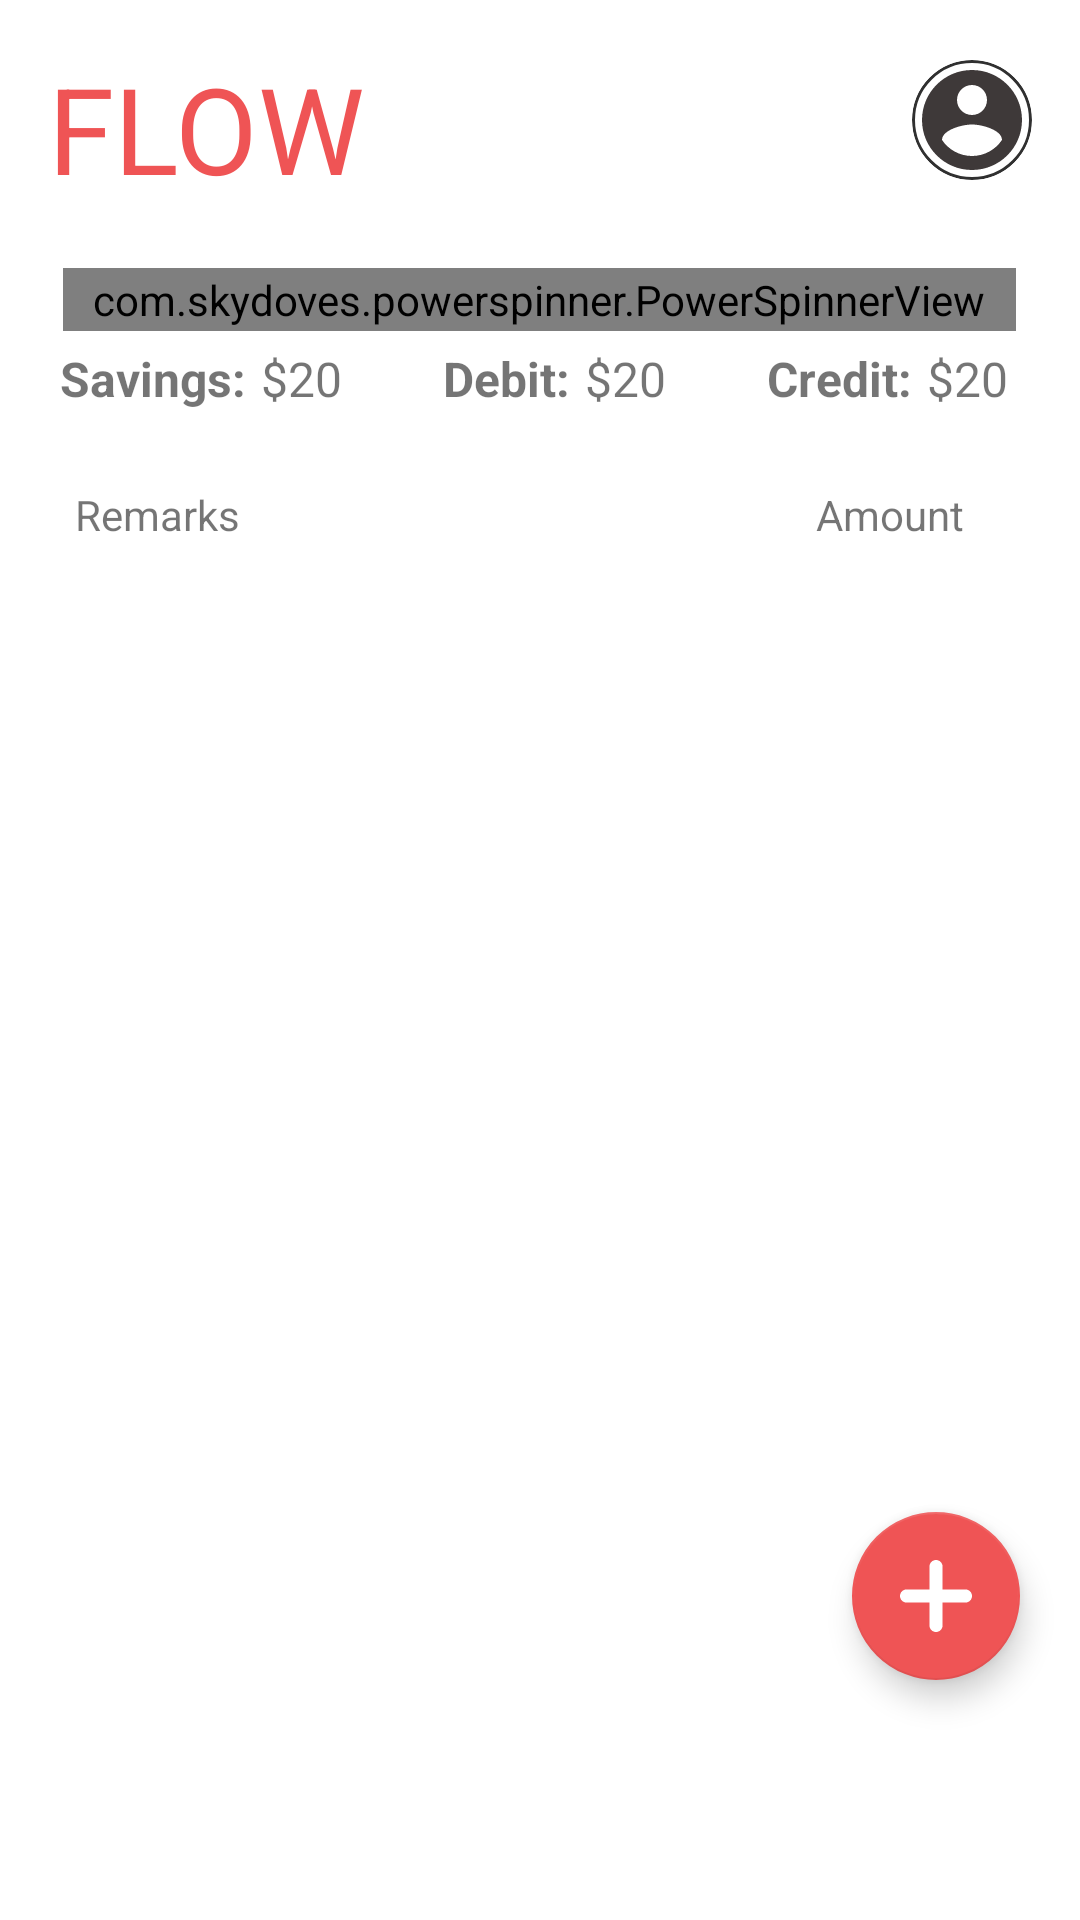

Named icons in this screenshot (1080 × 1920) and their bounding boxes, (left=x1, top=y1, right=x2, bottom=y2):
account circle: (left=912, top=60, right=1032, bottom=180)
plus: (left=852, top=1512, right=1020, bottom=1680)
